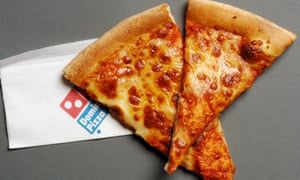cheese: (131, 59, 176, 114), (200, 42, 235, 93)
